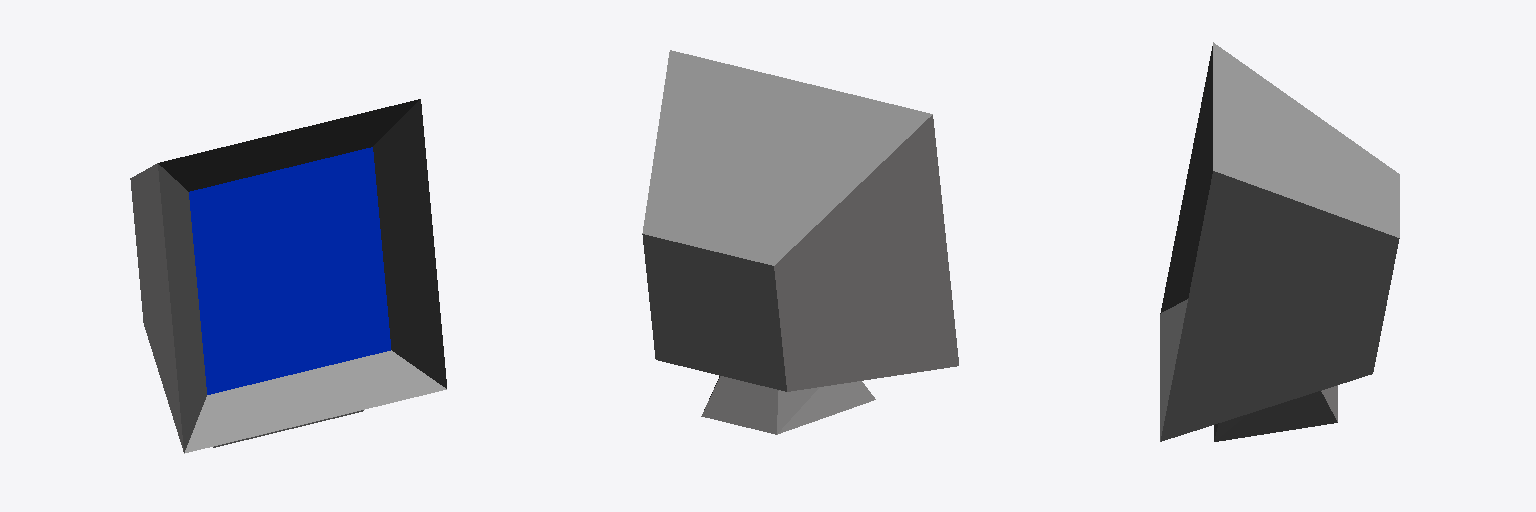
The model's file is Computer.obj.
3 views of the same model, side by side, from view 1: azimuth 30°, elevation 25°; view 2: azimuth 150°, elevation 25°; view 3: azimuth 270°, elevation 25° (orthographic).
Bounding box in the file's own units: 0.6 × 0.6512 × 0.4721.